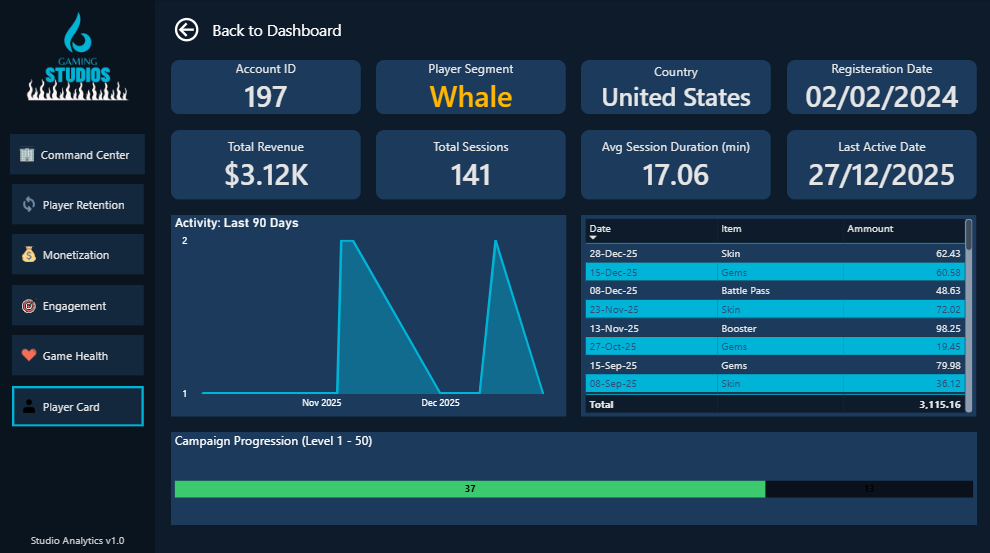

This screenshot's page, from the dashboard's own definition file:
{"tool":"powerbi","page":{"name":"Player Card","canvas":[1280,720],"ordinal":5},"visuals":[{"type":"actionButton","box":[220,20,230,40.4],"z":0},{"type":"cardVisual","fields":{"Data":["Max(dim_players.player_id)"]},"box":[220,80,245,70],"z":1000},{"type":"cardVisual","fields":{"Data":["Min(dim_players.country)"]},"box":[750,80,245,70.2],"z":2000},{"type":"cardVisual","fields":{"Data":["Min(dim_players.registered_at)"]},"box":[1015,80,245,70.2],"z":3000},{"type":"cardVisual","fields":{"Data":["Min(dim_players.player_segment)"]},"box":[485,80,245,70.2],"z":4000},{"type":"cardVisual","fields":{"Data":["_Measures.Total Revenue"]},"box":[220,170,245,90],"z":5000},{"type":"cardVisual","fields":{"Data":["_Measures.Last Active Date"]},"box":[1015,170,245,90.7],"z":6000},{"type":"cardVisual","fields":{"Data":["_Measures.Avg Session Duration (min)"]},"box":[750,170,245,90.7],"z":7000},{"type":"cardVisual","fields":{"Data":["_Measures.Total Sessions"]},"box":[485,170,245,90.7],"z":8000},{"type":"areaChart","title":"Activity: Last 90 Days","fields":{"Category":["fact_sessions.session_date"],"Y":["_Measures.Total Sessions"]},"box":[220,280,510,260],"z":9000},{"type":"tableEx","fields":{"Values":["fact_transactions.transaction_date - Date","fact_transactions.item_category","Sum(fact_transactions.price_usd)"]},"box":[750,280,510,260],"z":10000},{"type":"hundredPercentStackedBarChart","title":"Campaign Progression (Level 1 - 50)","fields":{"Y":["_Measures.Current Level Reached","_Measures.Levels Remaining"]},"box":[220,560,1040,120],"z":11000},{"type":"shape","box":[0,0,199.8,720],"z":12000},{"type":"image","box":[15.6,0,170.1,131.8],"z":13000},{"type":"textbox","box":[0,684.6,199.8,35.4],"z":14000},{"type":"actionButton","box":[12.8,175.7,174.3,52.4],"z":15000},{"type":"actionButton","box":[15.6,240,170.1,52.4],"z":16000},{"type":"actionButton","box":[15.6,305,170.1,52.4],"z":17000},{"type":"actionButton","box":[15.6,370,170.1,52.4],"z":18000},{"type":"actionButton","box":[15.6,435,170.1,52.4],"z":19000},{"type":"actionButton","box":[15.6,500,170.1,52.4],"z":20000}]}

Visuals, with their boxes on the page's 1280x720 design canvas (x1, y1, x2, y2). These are canvas units, not pixel positions in the 990x553 screenshot, which may show the page scaled, cropped or inside an application window:
actionButton: region(220, 20, 450, 60)
cardVisual - Max(dim_players.player_id): region(220, 80, 465, 150)
cardVisual - Min(dim_players.country): region(750, 80, 995, 150)
cardVisual - Min(dim_players.registered_at): region(1015, 80, 1260, 150)
cardVisual - Min(dim_players.player_segment): region(485, 80, 730, 150)
cardVisual - _Measures.Total Revenue: region(220, 170, 465, 260)
cardVisual - _Measures.Last Active Date: region(1015, 170, 1260, 261)
cardVisual - _Measures.Avg Session Duration (min): region(750, 170, 995, 261)
cardVisual - _Measures.Total Sessions: region(485, 170, 730, 261)
"Activity: Last 90 Days" areaChart: region(220, 280, 730, 540)
tableEx - fact_transactions.transaction_date - Date x fact_transactions.item_category: region(750, 280, 1260, 540)
"Campaign Progression (Level 1 - 50)" hundredPercentStackedBarChart: region(220, 560, 1260, 680)
shape: region(0, 0, 200, 720)
image: region(16, 0, 186, 132)
textbox: region(0, 685, 200, 720)
actionButton: region(13, 176, 187, 228)
actionButton: region(16, 240, 186, 292)
actionButton: region(16, 305, 186, 357)
actionButton: region(16, 370, 186, 422)
actionButton: region(16, 435, 186, 487)
actionButton: region(16, 500, 186, 552)
